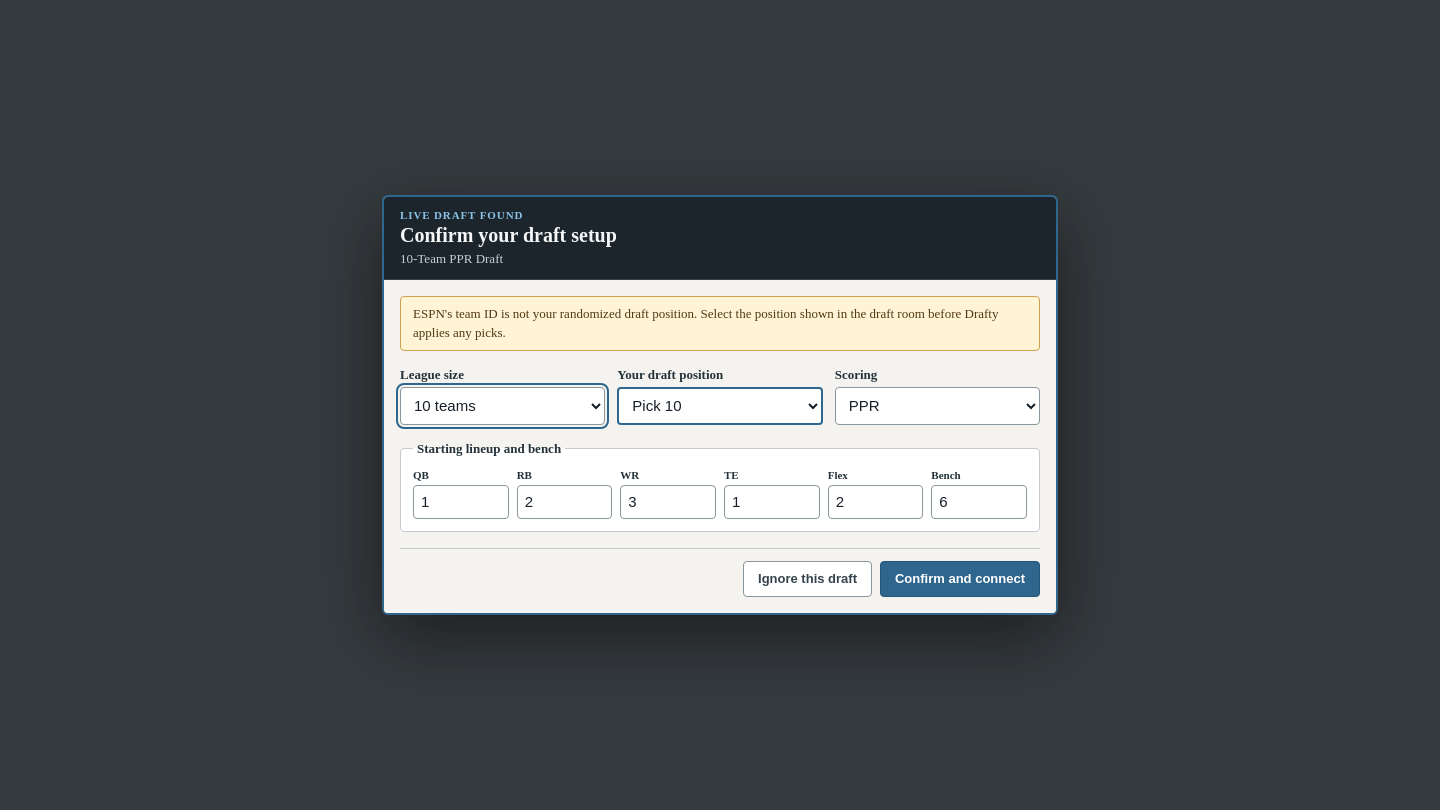
Test: Draft connection confirmation › clamps the selected draft slot when league size shrinks
This screenshot has width=1440, height=810.
Step 1. Select "8 teams" in the dropdown labelled "League size" → (503, 406), box [400, 387, 605, 425]
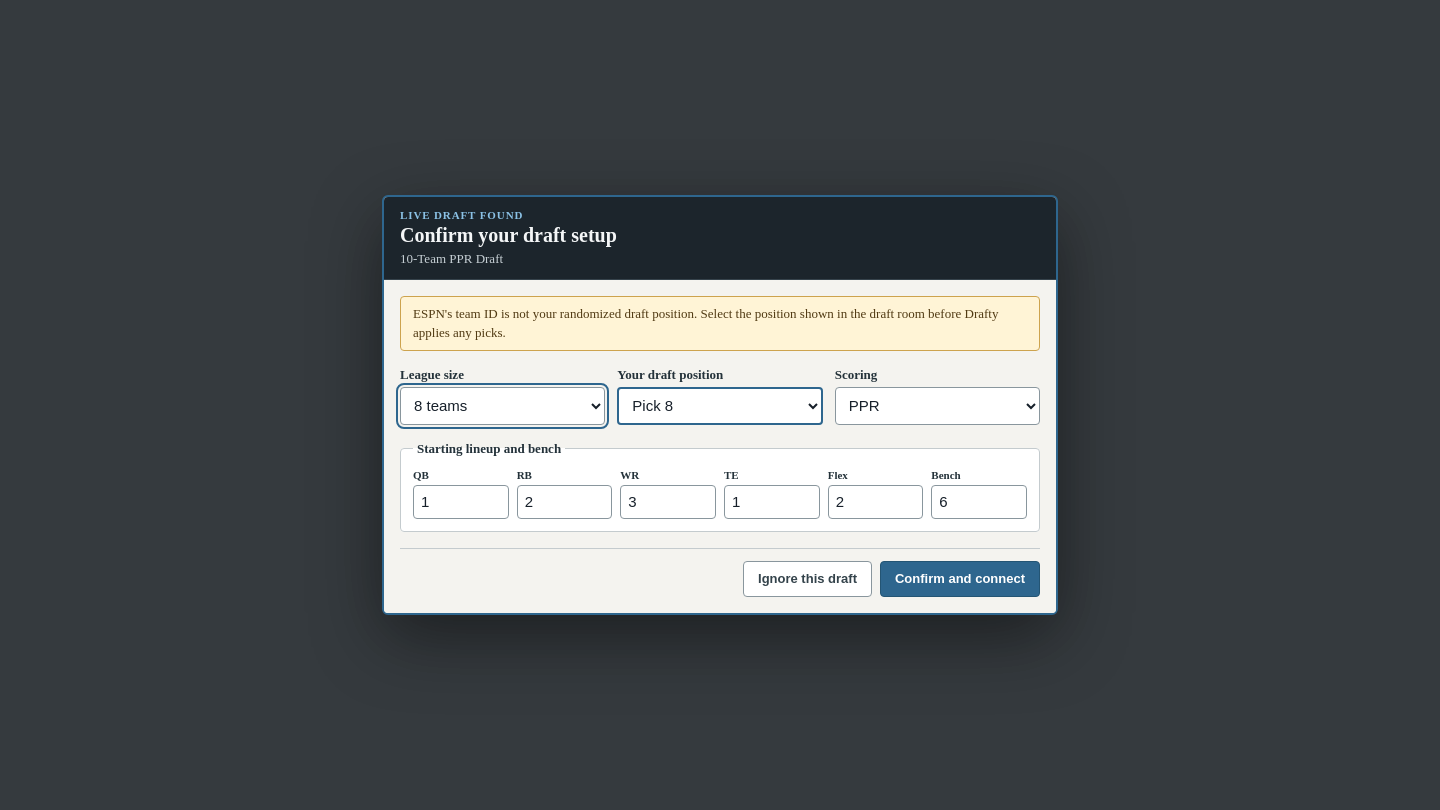
Check: the dropdown labelled "Your draft position" shows "Pick 8", box [617, 387, 823, 425]
